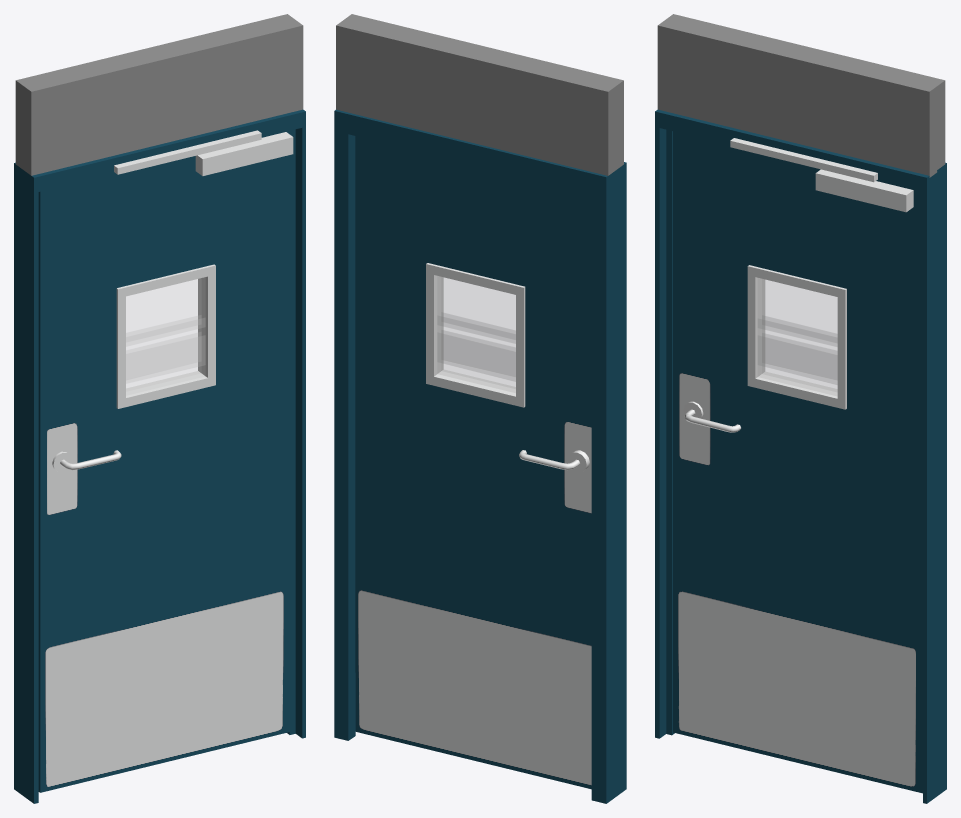
File: Murporte01_t1.FBX
The picture shows the model from 3 angles, left to right: view 1: azimuth 30°, elevation 25°; view 2: azimuth 150°, elevation 25°; view 3: azimuth 330°, elevation 25°; orthographic projection.
Parts seen in each view (by area): view 1: PorteD001, DoublePorte005, mur 103; view 2: PorteD001, DoublePorte005, mur 103; view 3: PorteD001, DoublePorte005, mur 103.
Boxes of the visible parts, <box> form: PorteD001: <box>38,130,293,792</box>; DoublePorte005: <box>14,109,305,803</box>; mur 103: <box>15,14,303,175</box>; PorteD001: <box>355,136,591,789</box>; DoublePorte005: <box>334,109,626,803</box>; mur 103: <box>336,14,623,175</box>; PorteD001: <box>673,131,922,793</box>; DoublePorte005: <box>655,109,946,803</box>; mur 103: <box>657,14,945,177</box>.
Size of the model in its own units: 100 by 250 by 19.25.
